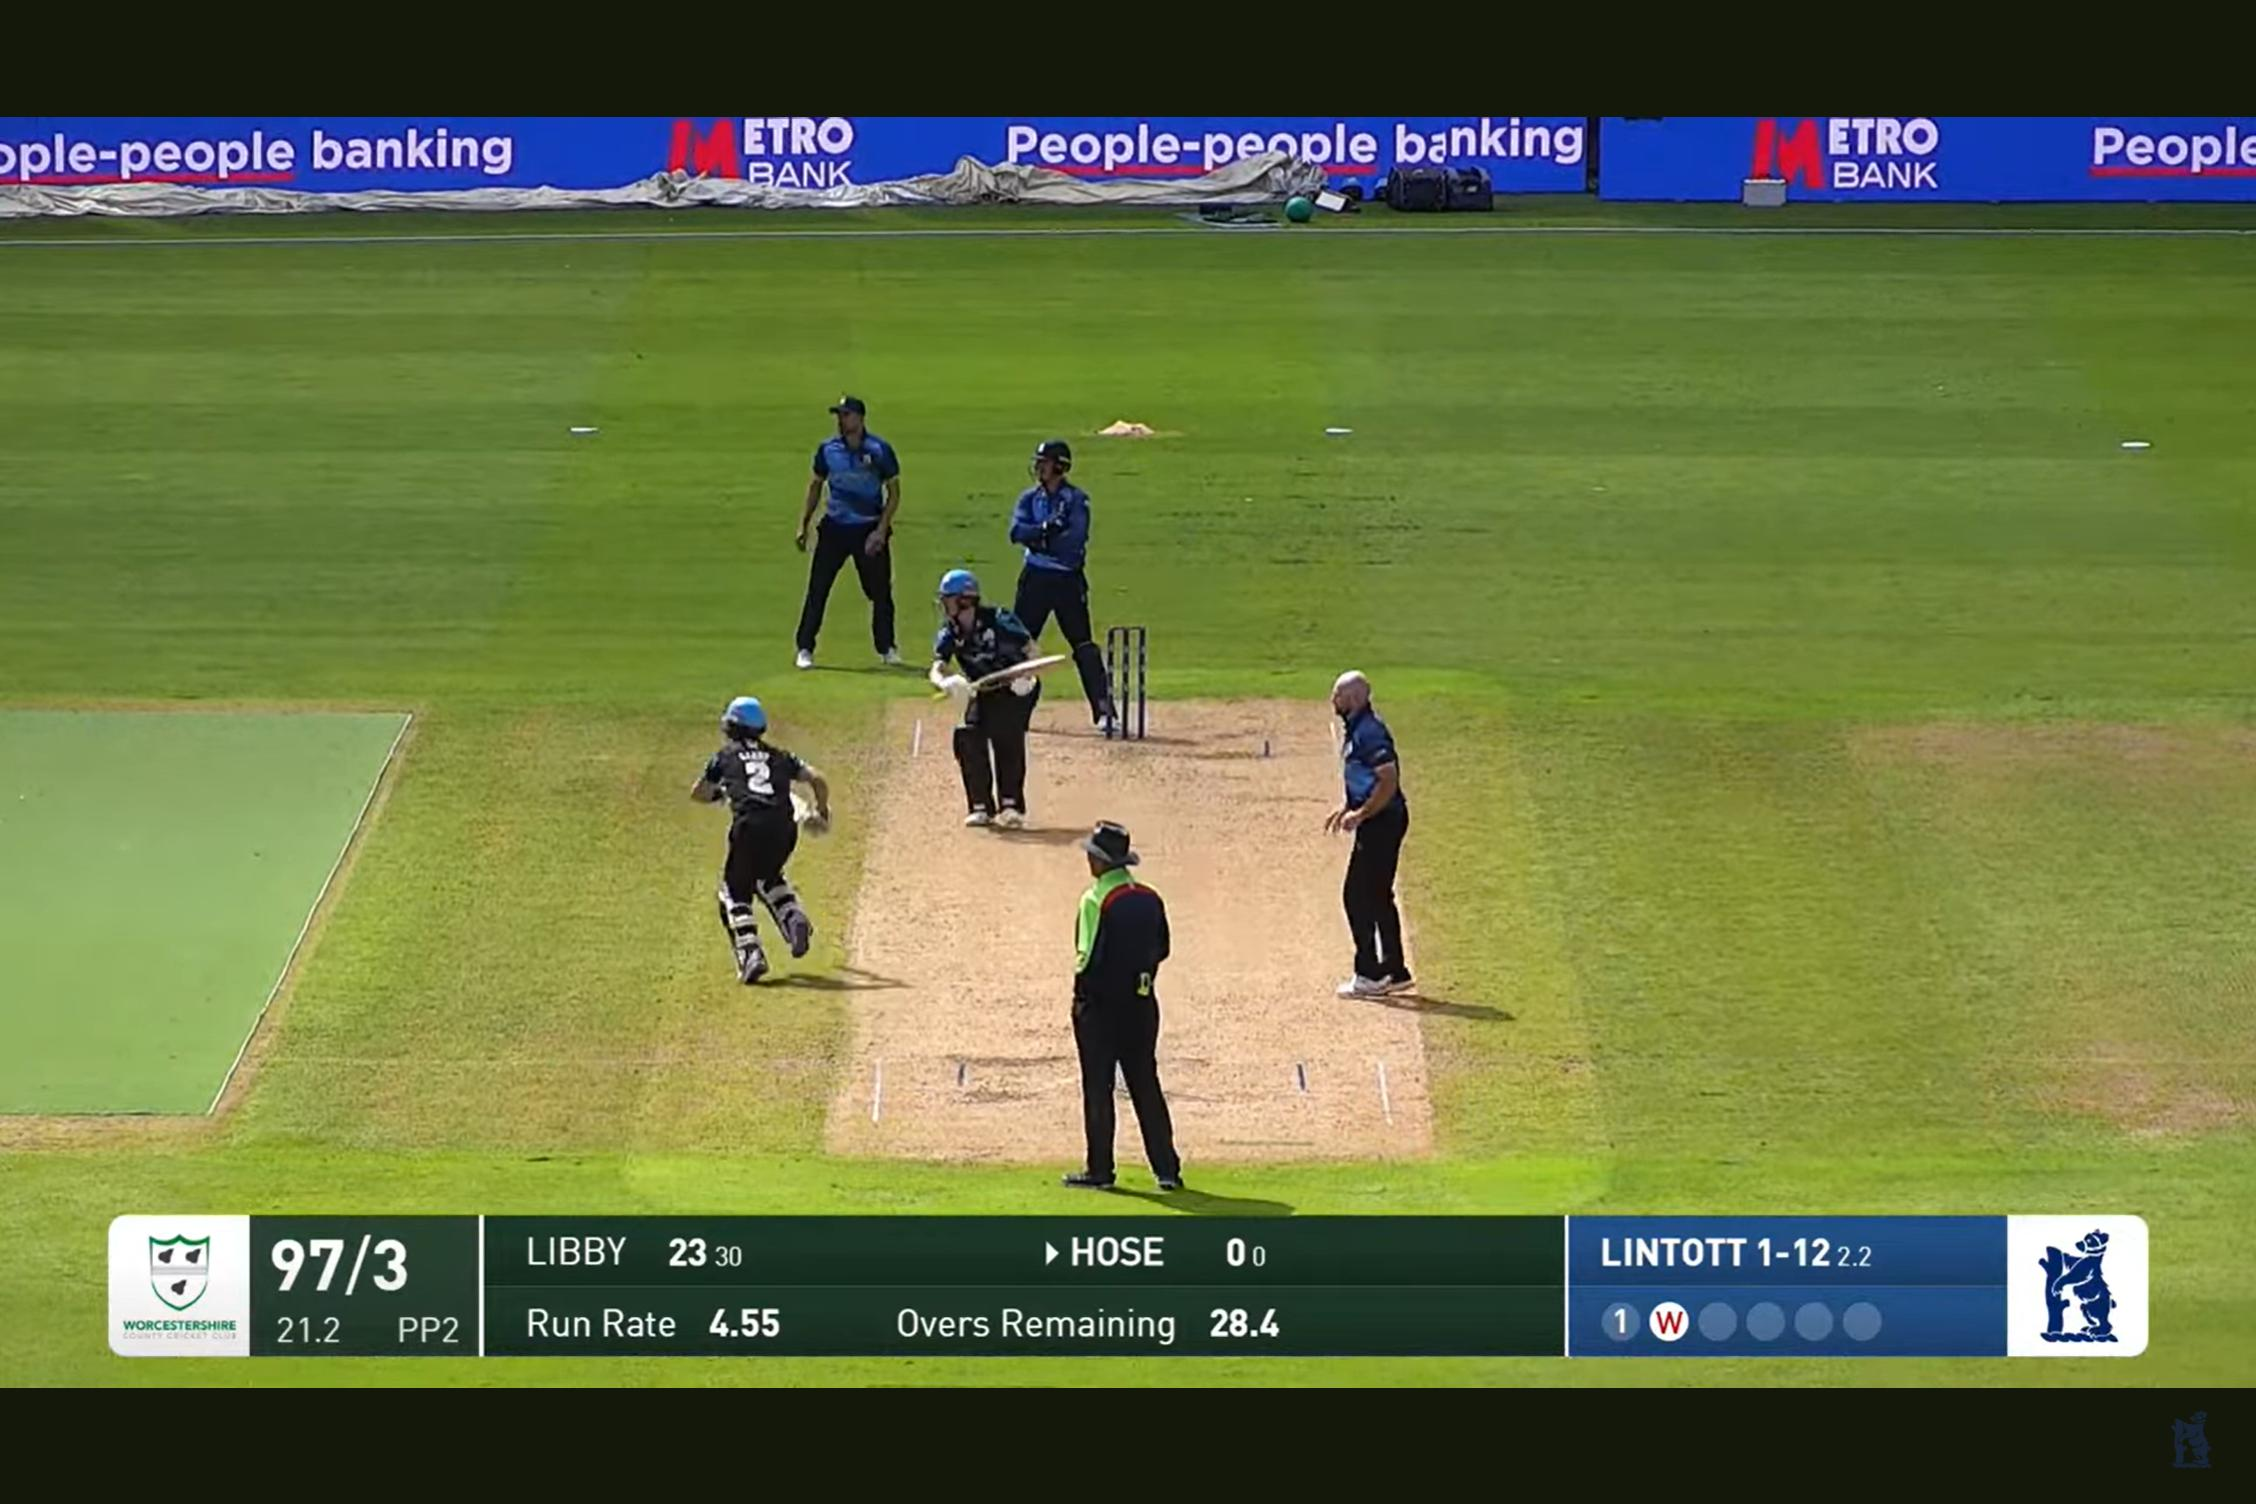bowler running in: (1286, 631, 1464, 1017)
running: (658, 687, 863, 999), (903, 552, 1064, 838)
umpire: (1059, 822, 1192, 1178)
